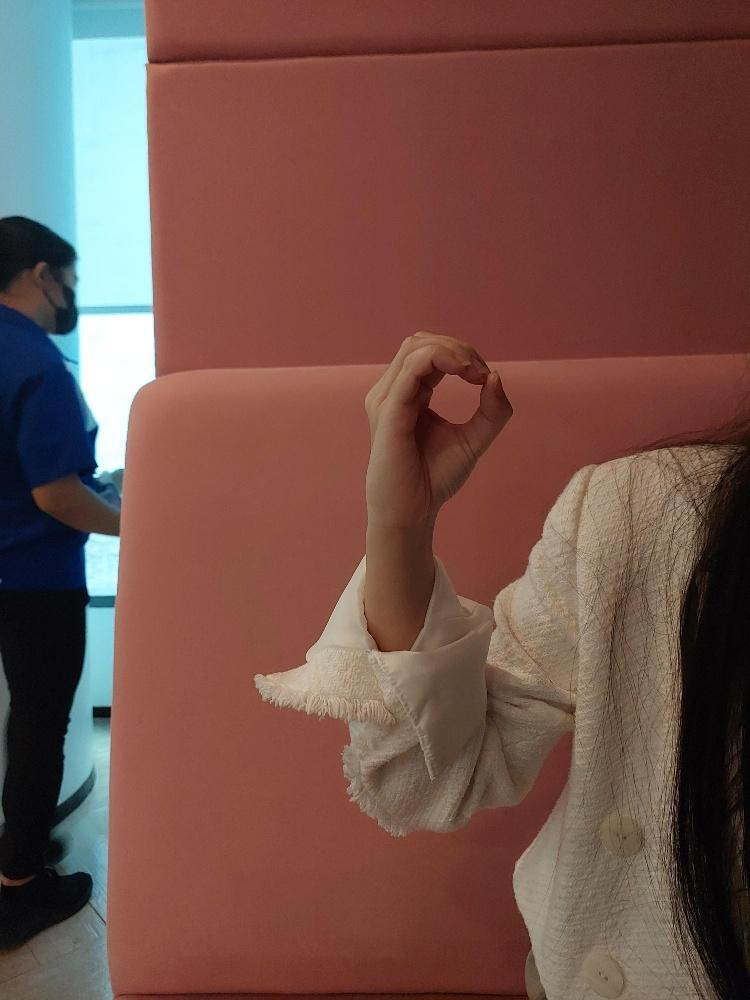o: (362, 330, 515, 510)
